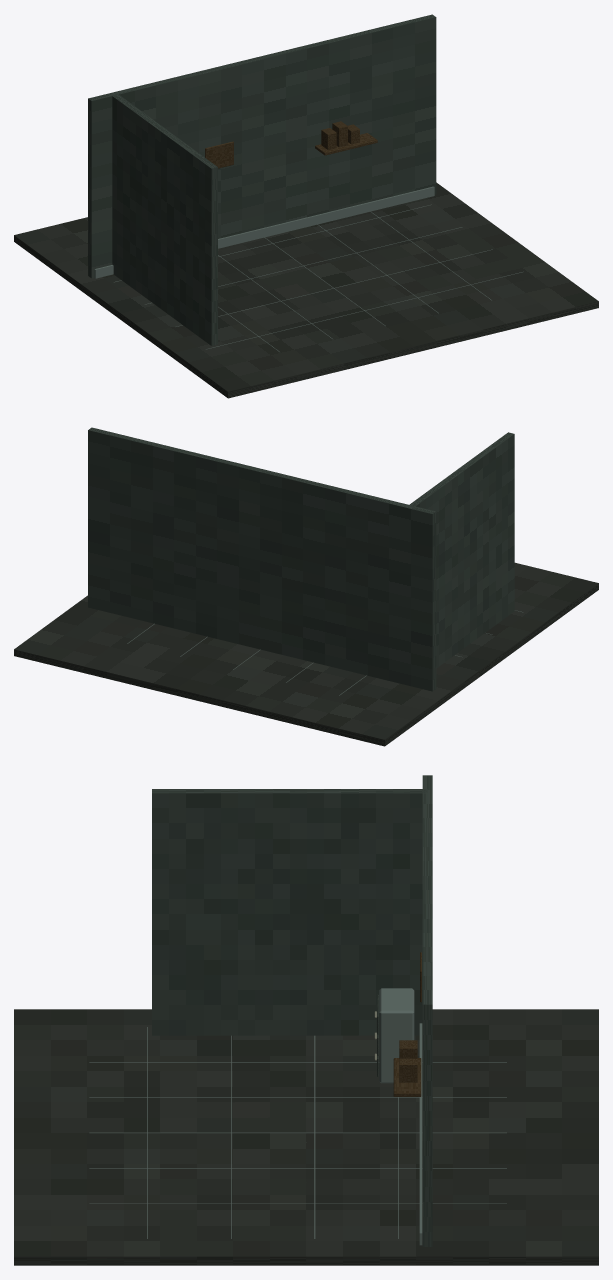
Rendered from retro_ambiente_v4.glb.
3 renders of one model, top to bottom at view 1: azimuth 30°, elevation 25°; view 2: azimuth 150°, elevation 25°; view 3: azimuth 270°, elevation 25°, orthographic. The views are drawn at different scales.
Visible parts, largest first — view 1: Piso ambiente, Parede fundo, Parede lateral, Rodape fundo, Painel parede; view 2: Parede fundo, Piso ambiente, Parede lateral; view 3: Piso ambiente, Parede lateral, Parede fundo, Armario baixo, Rodape fundo, Junta piso.002, Prateleira fundo.
Part boxes in pixels (bbox=[...]): Piso ambiente: bbox=[14, 182, 598, 398]; Parede fundo: bbox=[88, 14, 436, 278]; Parede lateral: bbox=[112, 94, 217, 345]; Rodape fundo: bbox=[94, 186, 434, 278]; Painel parede: bbox=[205, 141, 233, 168]; Parede fundo: bbox=[88, 427, 436, 691]; Piso ambiente: bbox=[14, 562, 598, 746]; Parede lateral: bbox=[408, 432, 514, 668]; Piso ambiente: bbox=[14, 1009, 598, 1265]; Parede lateral: bbox=[152, 789, 427, 1035]; Parede fundo: bbox=[422, 775, 432, 1246]; Armario baixo: bbox=[379, 988, 414, 1083]; Rodape fundo: bbox=[419, 1023, 422, 1245]; Junta piso.002: bbox=[89, 1132, 506, 1133]; Prateleira fundo: bbox=[393, 1058, 421, 1096].
Bounding box in the file's own units: 7 × 3.33 × 7.
Materials: 5 (4 with a texture image).
